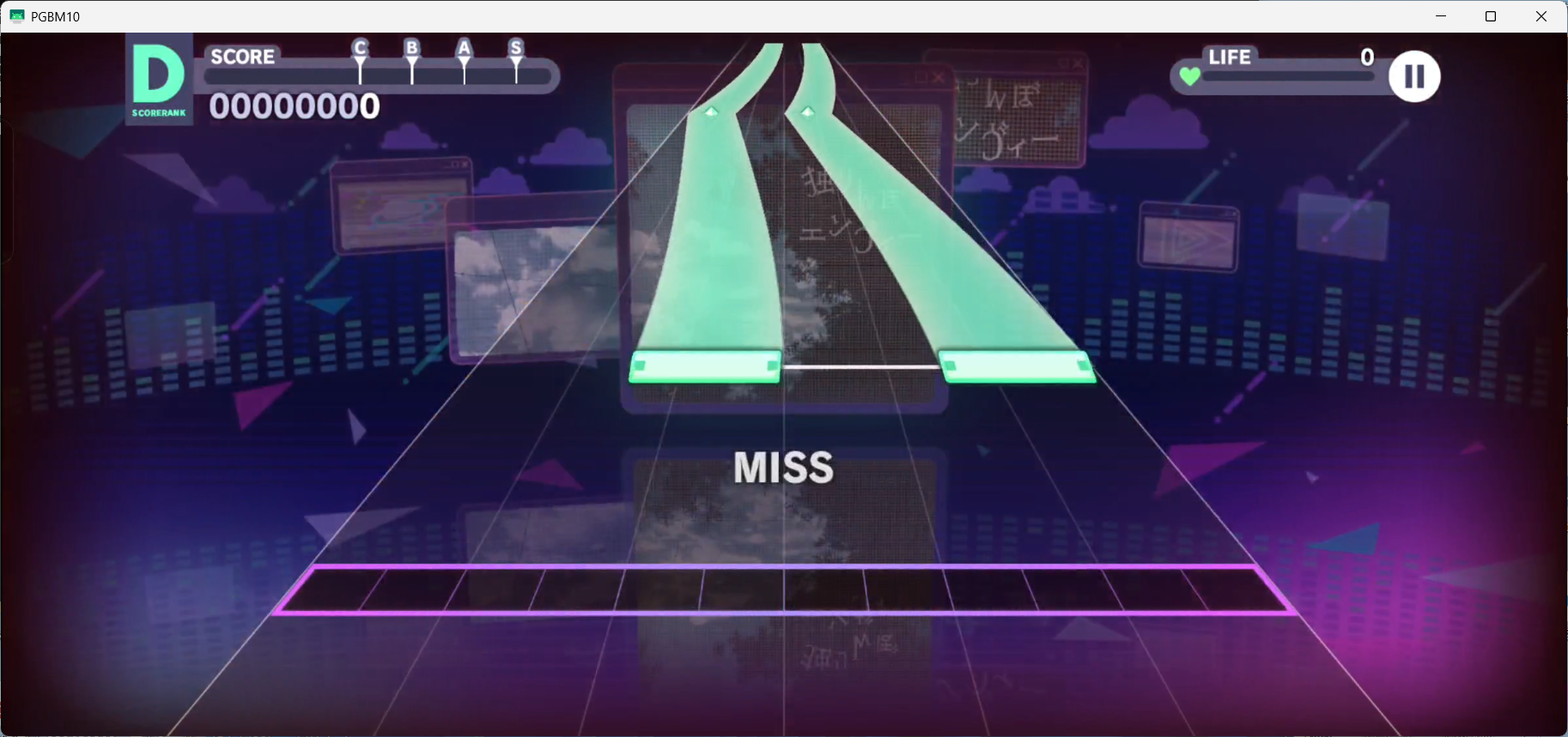hold: (784, 43, 1078, 349), (635, 44, 784, 350)
sweep: (703, 106, 719, 121), (800, 106, 815, 120)
tap: (938, 350, 1097, 383), (628, 350, 782, 384)
